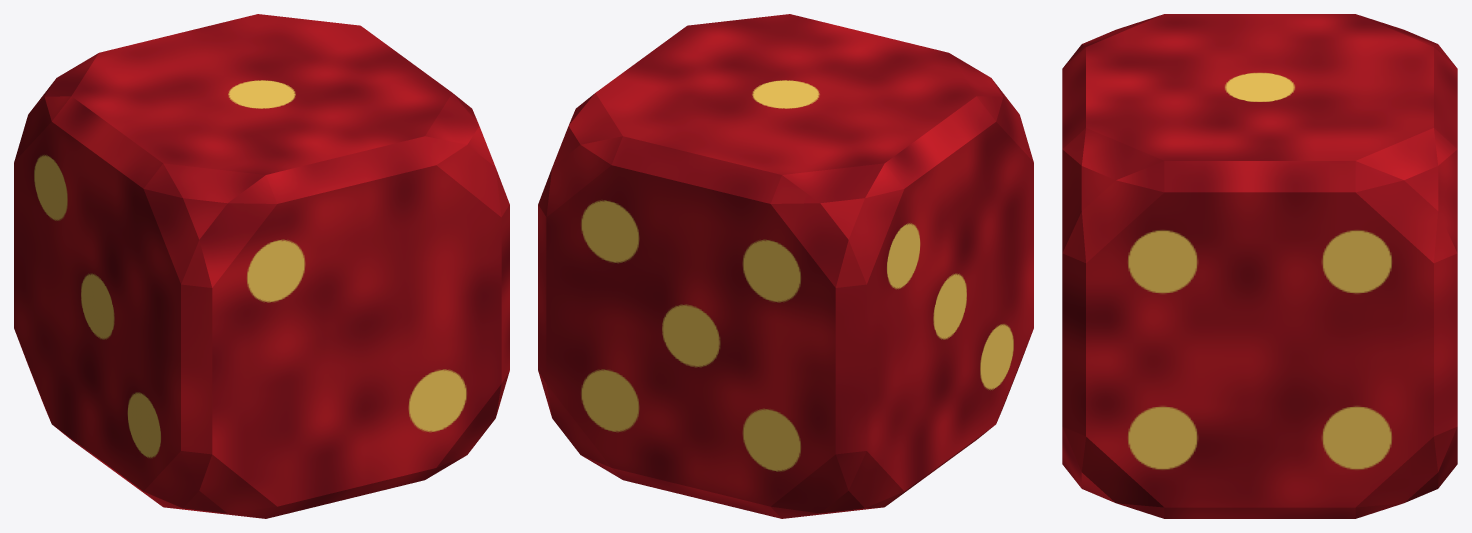
Rendered from Die_Sixes.fbx.
3 renders of one model, left to right at view 1: azimuth 30°, elevation 25°; view 2: azimuth 150°, elevation 25°; view 3: azimuth 270°, elevation 25°, orthographic. The views are drawn at different scales.
Parts seen in each view (by area): view 1: Die_Sixes; view 2: Die_Sixes; view 3: Die_Sixes.
Part boxes in pixels (<box>): Die_Sixes: <box>14,14,509,518</box>; Die_Sixes: <box>538,14,1033,518</box>; Die_Sixes: <box>1062,14,1457,518</box>.
Bounding box in the file's own units: 0.3 × 0.3 × 0.3.
1 material, 1 textured.
